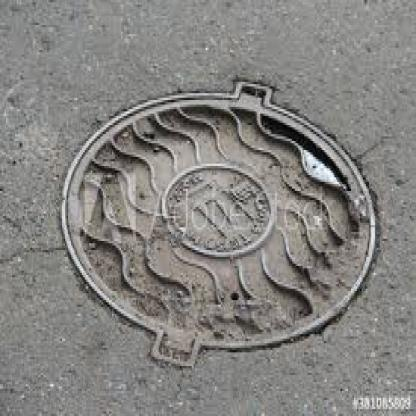manholes: (42, 50, 401, 386)
